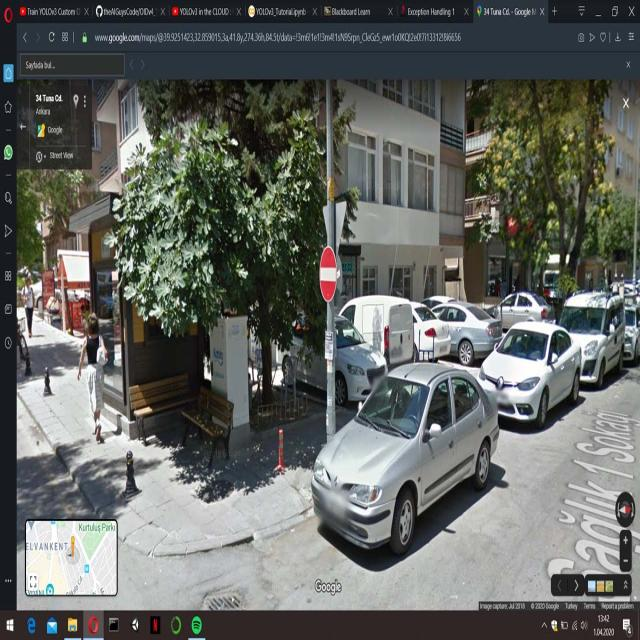girisyok: (318, 240, 338, 304)
